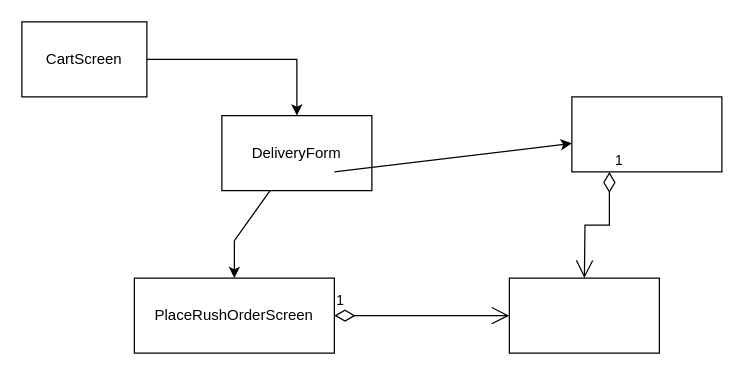
The diagram is 744 pixels wide and 375 high, and some of its shapes have lost their labels. The shapes that lost their labels are listed below. From the top down, each one's centre as x and y in pixels, then its label:
At pixel 646 134: "PlaceOrderScreen".
At pixel 583 315: "PaymentScreen".
